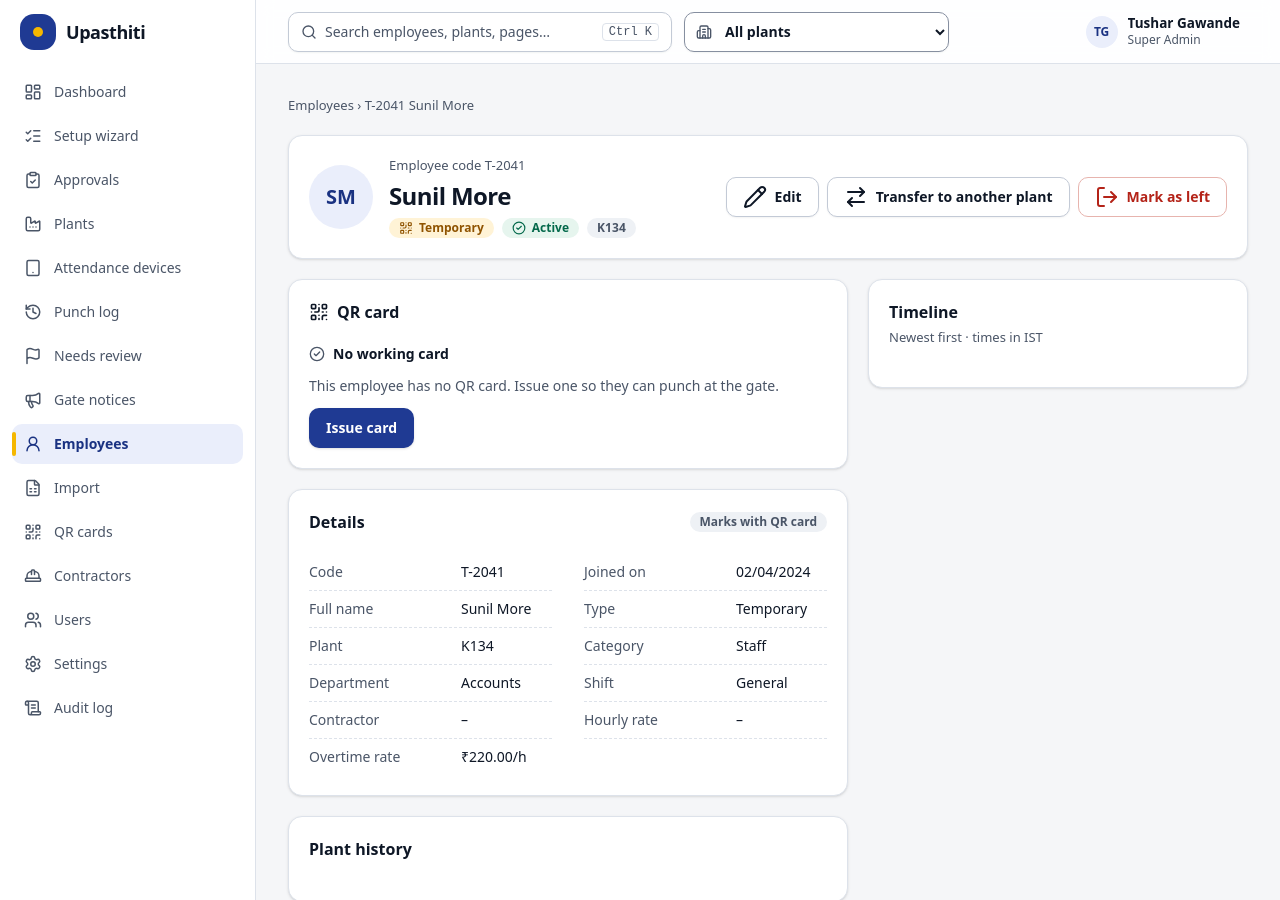
Test: issue dialog › suggests today and the end of the default months, and sends them
Click the button "Issue card": (362, 428) left=309, top=408, right=414, bottom=448
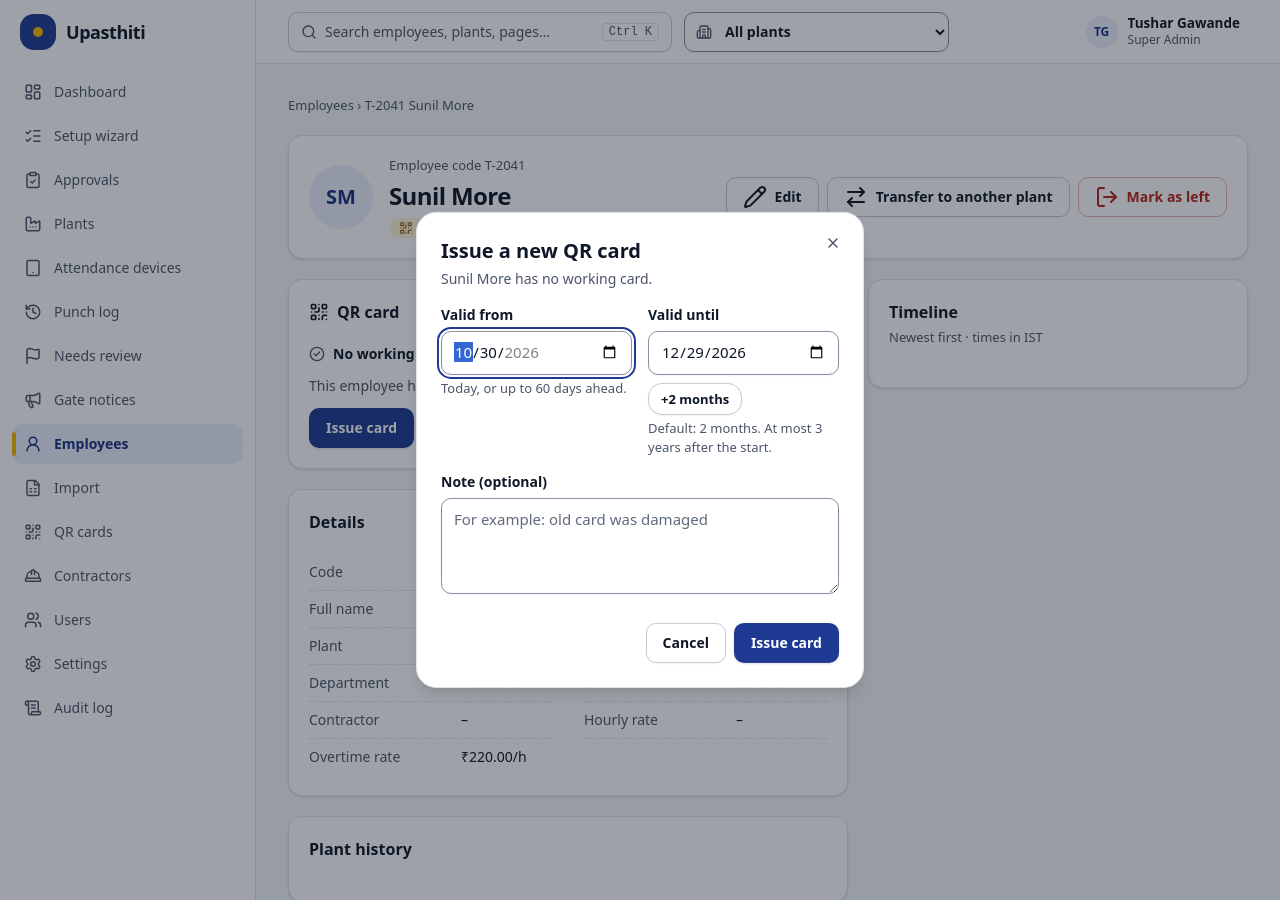
Click the button "Issue card": (786, 643) left=734, top=623, right=839, bottom=663
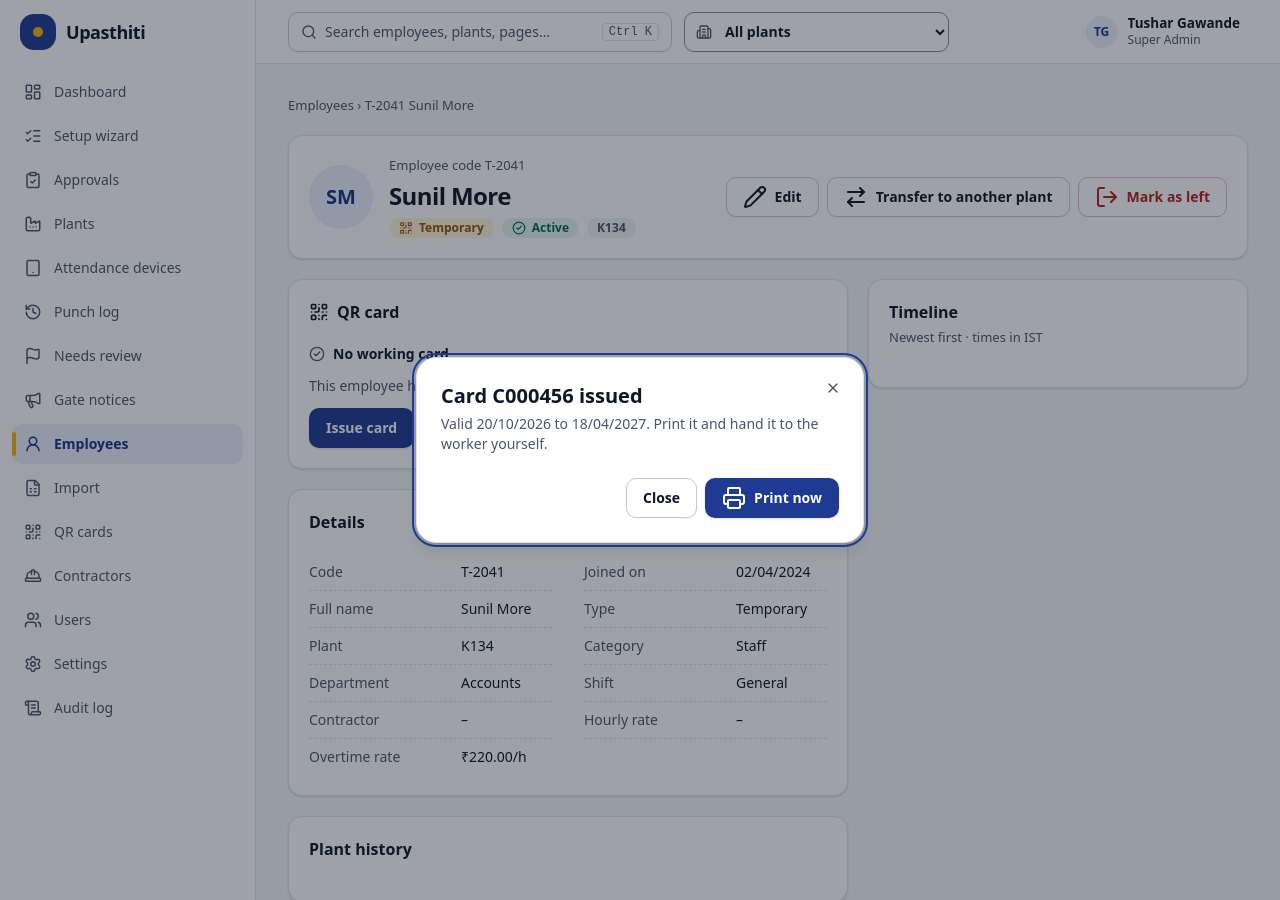
Check: the heading "Card C000456 issued" is shown, box left=441, top=382, right=642, bottom=409
